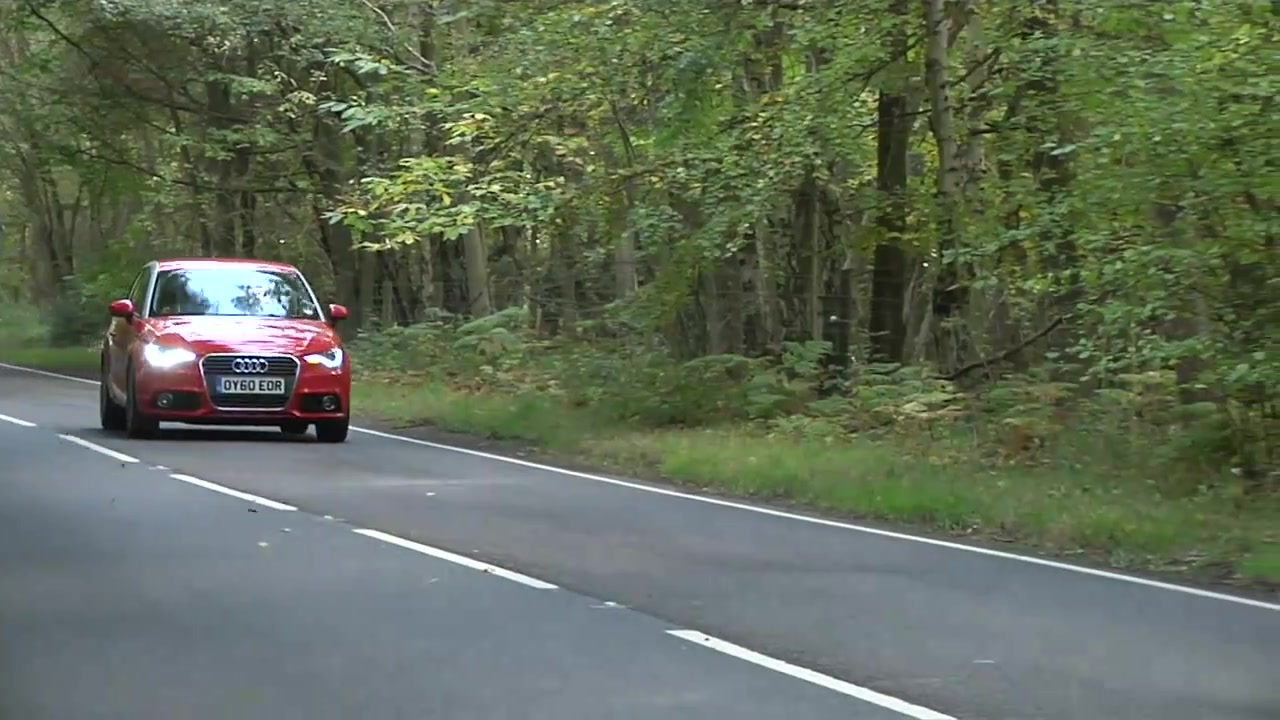car: (94, 259, 356, 448)
